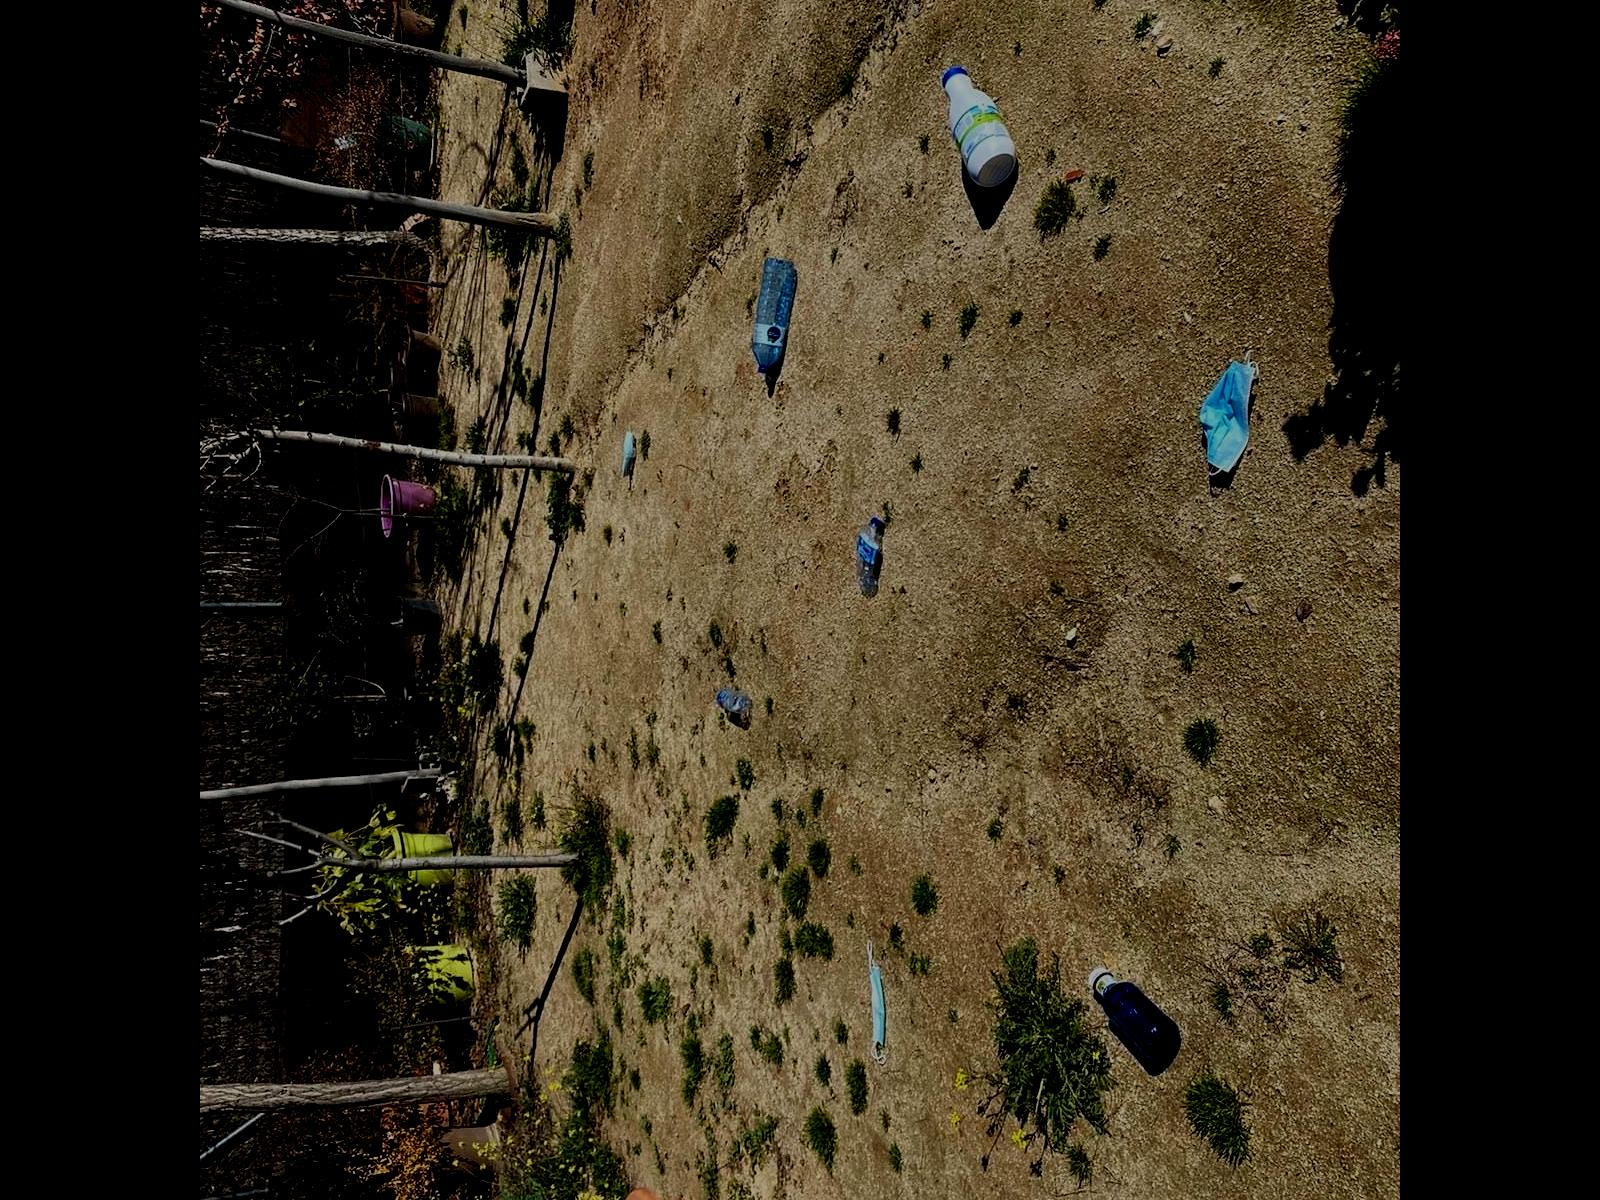bottle: (1061, 934, 1204, 1095), (912, 29, 1034, 200), (728, 204, 810, 357), (826, 472, 922, 596), (680, 655, 770, 736)
